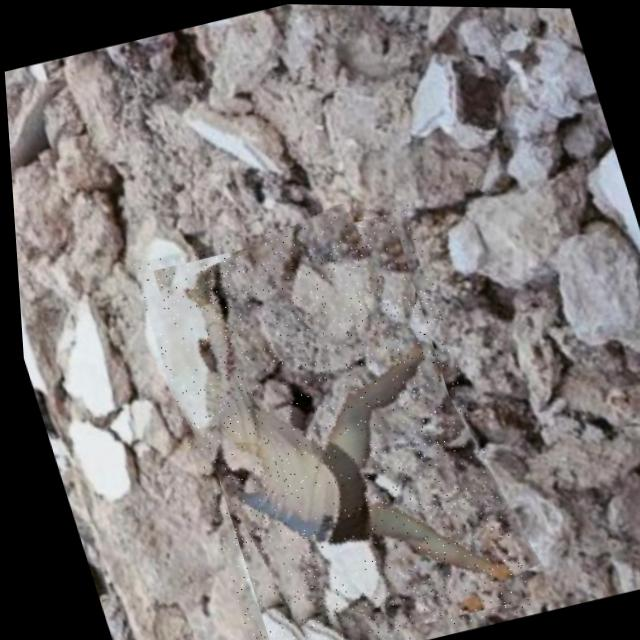Person in Rubble: (124, 192, 529, 640)
